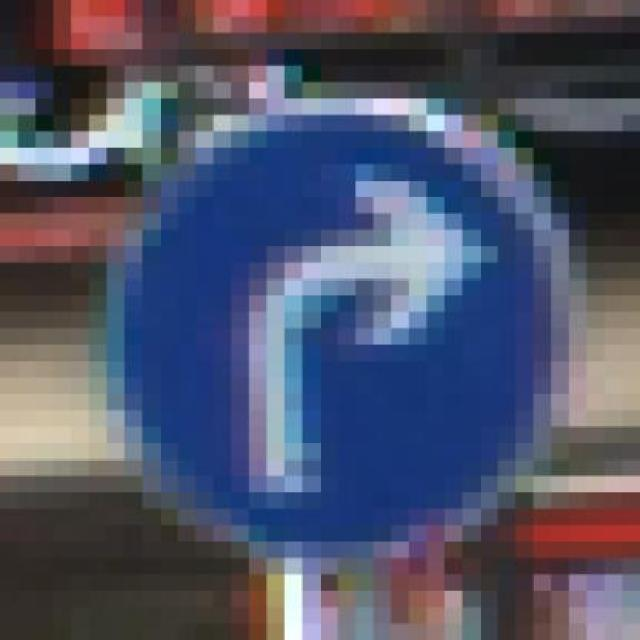Turn right ahead: (89, 98, 586, 591)
